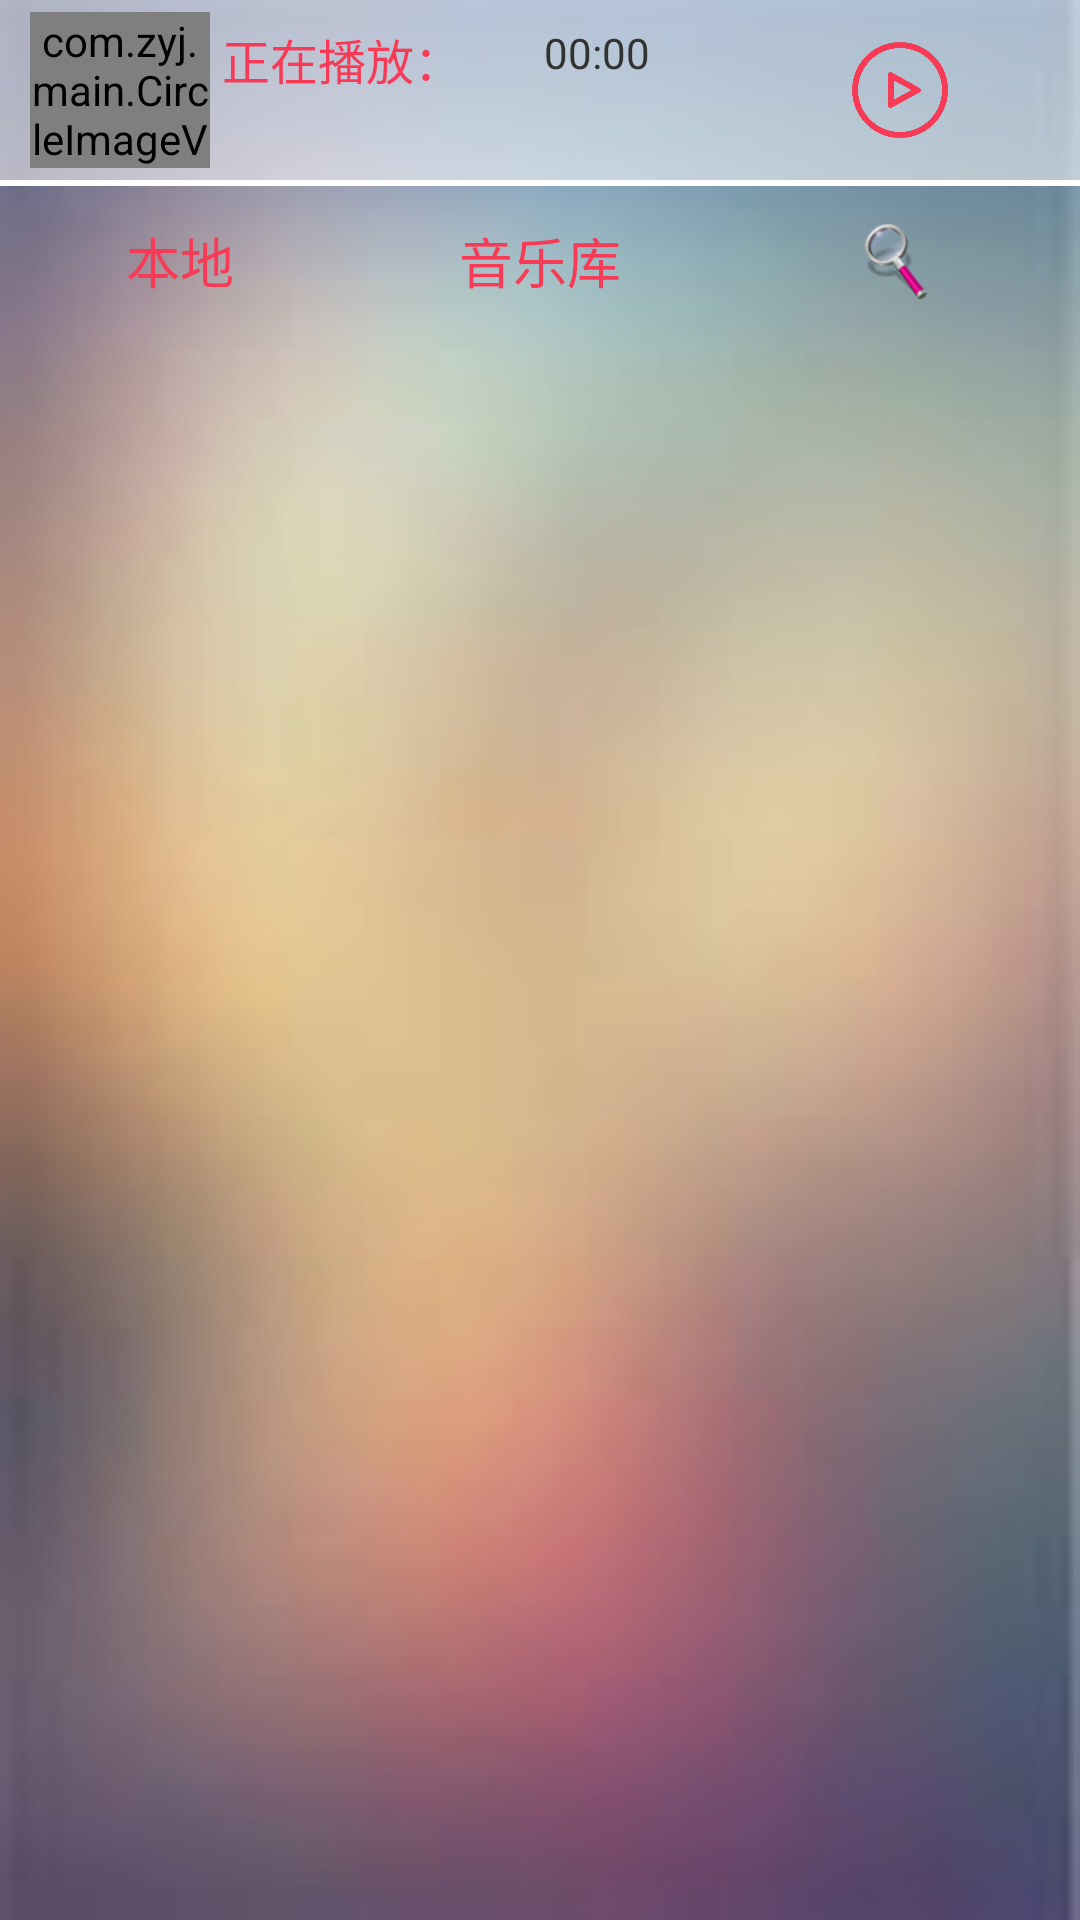

Locate icon controls on the screen. Image size 1080w x 1920h, boxes as (x1, y1, x2, y2).
music menu play: (852, 42, 948, 138)
